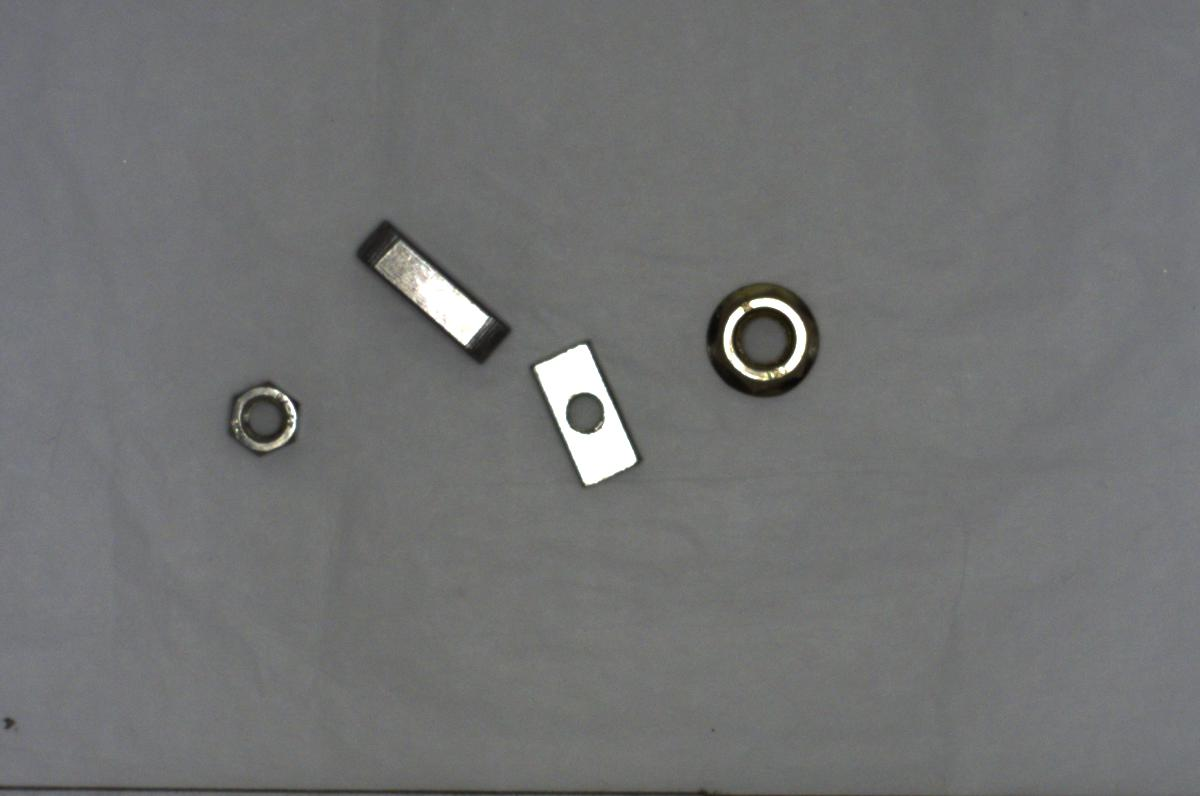Flange nut: (685, 270, 828, 405)
Hexagon nut: (214, 373, 311, 456)
Keybar: (352, 212, 515, 362)
Rectangular nut: (521, 333, 644, 489)
